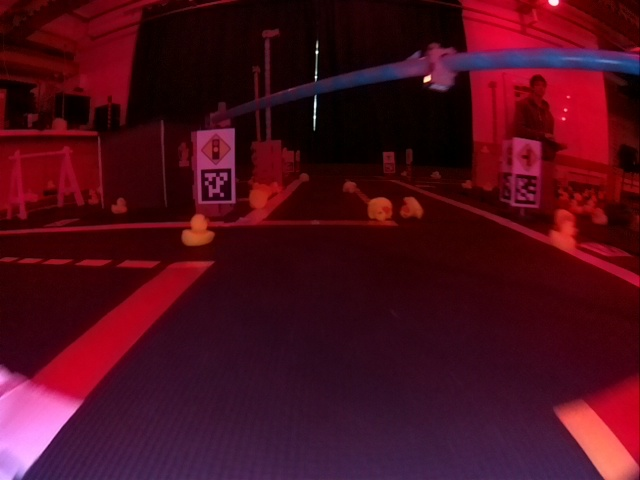Duckie: (183, 216, 213, 246), (550, 225, 576, 248), (368, 197, 392, 221), (402, 195, 420, 216), (556, 208, 575, 226)
Intersection sign: (518, 141, 540, 172)
QR code: (200, 168, 232, 201), (515, 175, 539, 204)
Signal sign: (200, 133, 233, 165)
